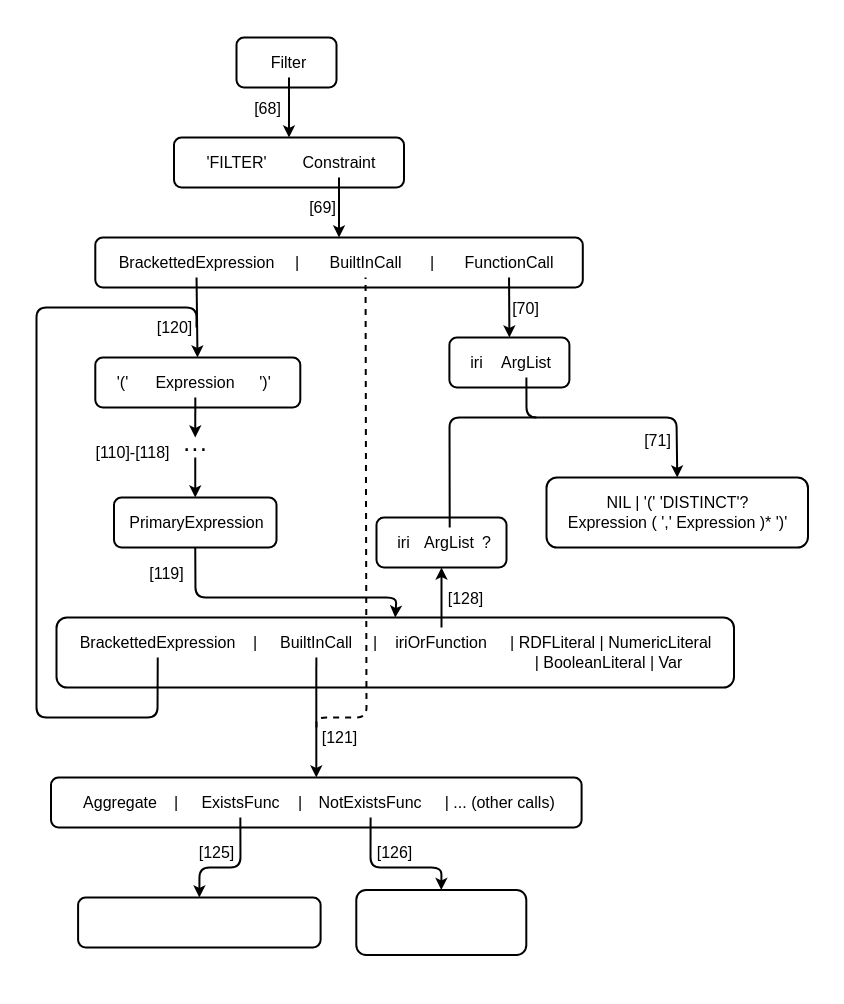
Some shapes in this 844 by 1004 pixel diagram are drawn without their labels. The shapes that lost their labels are listed below. From the top down, each one's centre as x and y in pixels, then its label:
At (x=199, y=922): "'EXISTS' GroupGraphPattern".
At (x=441, y=922): "'NOT' 'EXISTS' GroupGraphPattern".
